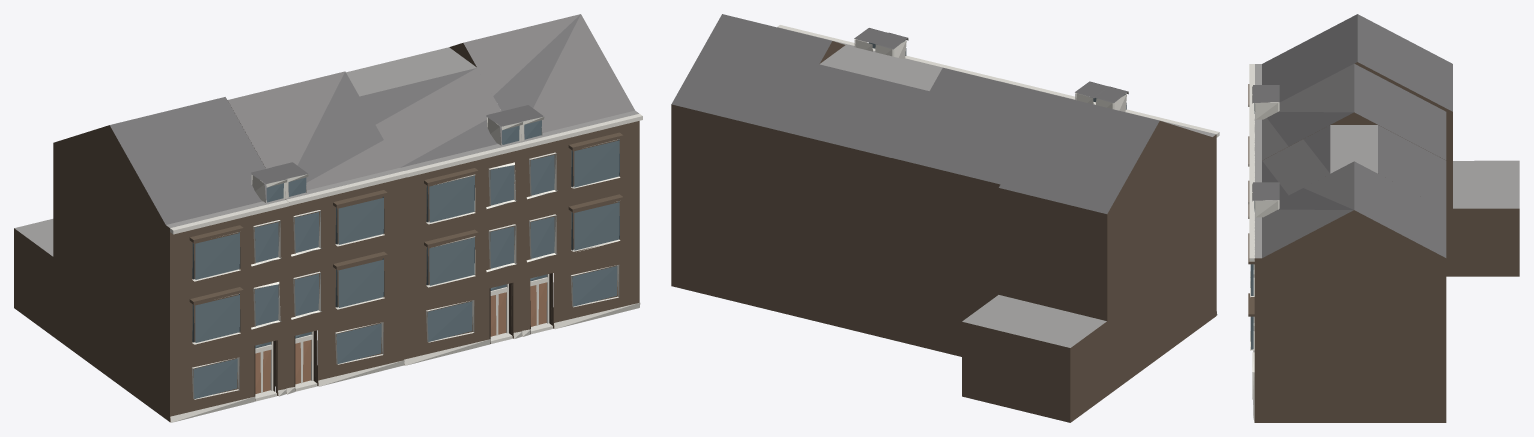
Rendered from chunk-face-treslong-5-19-b.lod2.glb.
3 renders of one model, left to right at view 1: azimuth 30°, elevation 25°; view 2: azimuth 150°, elevation 25°; view 3: azimuth 270°, elevation 25°, orthographic. The views are drawn at different scales.
Visible parts, largest first — view 1: lod2; view 2: lod2; view 3: lod2.
Boxes of the visible parts, bbox=[...] form: lod2: bbox=[14, 14, 642, 422]; lod2: bbox=[671, 14, 1219, 422]; lod2: bbox=[1248, 14, 1519, 422].
Size of the model in its own units: 25.1 by 12.93 by 14.8.
